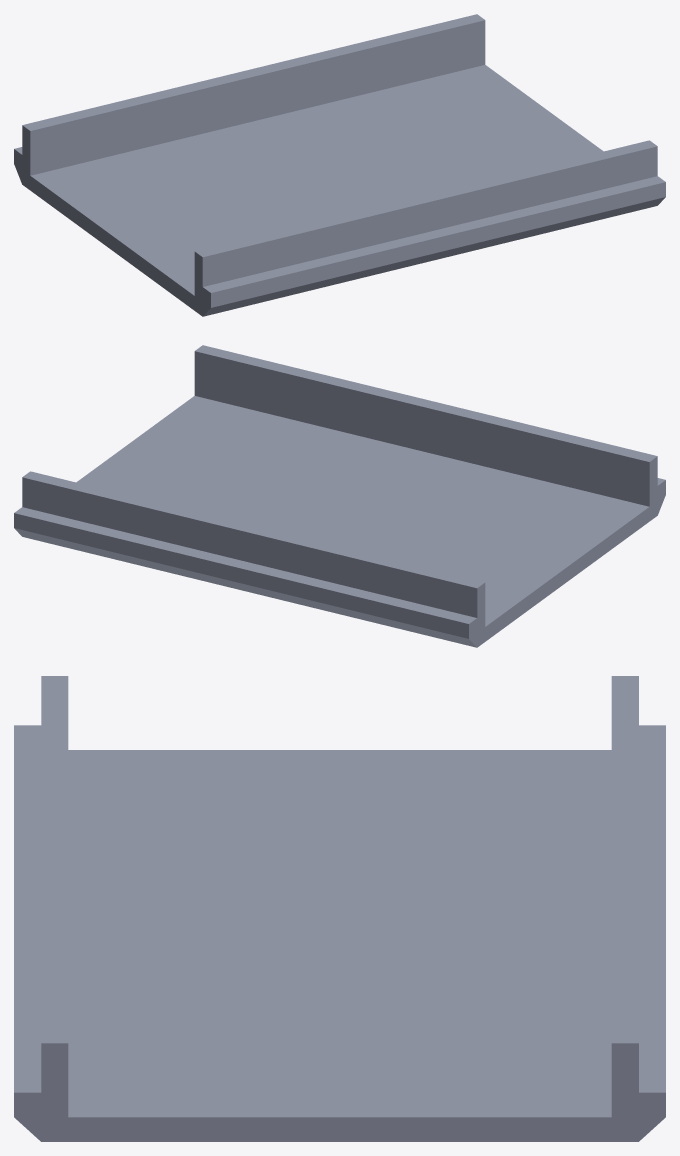
File: building_bridge-length_v01.gltf
The picture shows the model from 3 angles, top to bottom: view 1: azimuth 30°, elevation 25°; view 2: azimuth 150°, elevation 25°; view 3: azimuth 270°, elevation 25°; orthographic projection. The views are drawn at different scales.
Visible parts, largest first — view 1: massing; view 2: massing; view 3: massing.
Part boxes in pixels (box(x1,y1,x2,y2)): massing: box(14, 14, 665, 316); massing: box(14, 345, 665, 647); massing: box(14, 676, 665, 1141).
Size of what is drawn, in the model's own units: 16 by 2 by 12.
